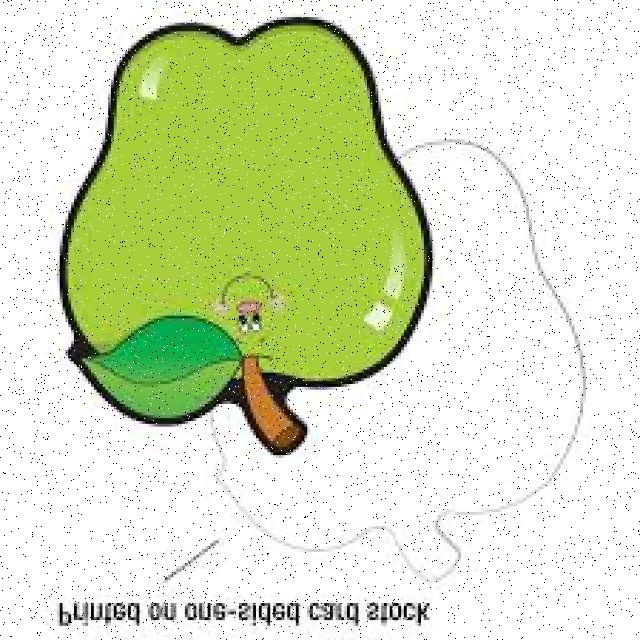Apple: (59, 15, 434, 408)
